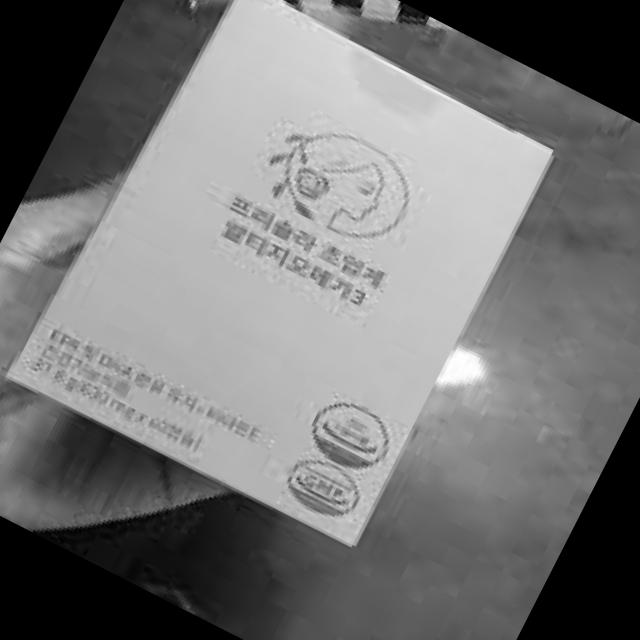GMP: (279, 446, 371, 530)
HEALTHY: (302, 389, 400, 482)
